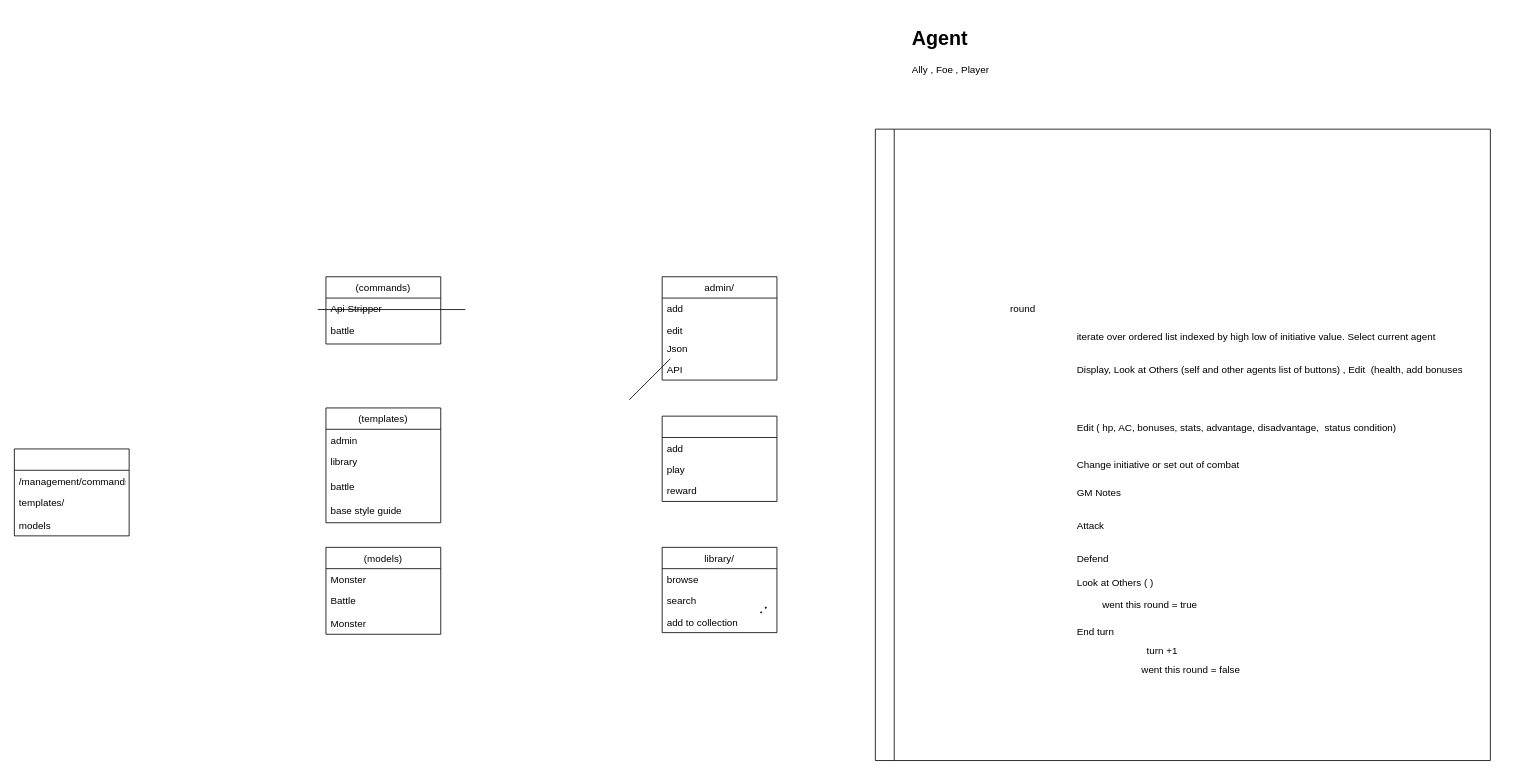
Some shapes in this 1528 by 775 pixel diagram are drawn without their labels. The shapes that lost their labels are listed below. From the top down, each one's box as (x1, y1, x2, y2) in pixels, then its label:
(661, 415, 777, 501): battle_name/
(875, 128, 1490, 761): WHAT HAPPENS ON A TURN
(14, 448, 129, 536): battle buddy app
